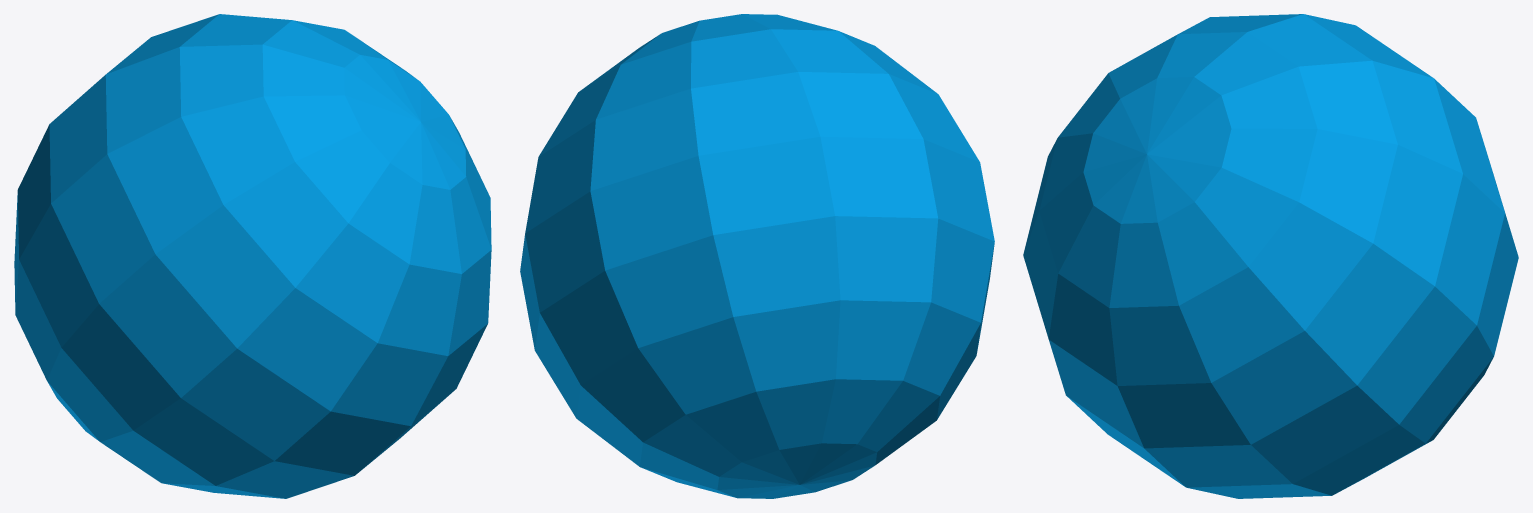
The model's file is astronaut_spawn_group1167954657_lev4.glb.
The picture shows the model from 3 angles, left to right: view 1: azimuth 30°, elevation 25°; view 2: azimuth 150°, elevation 25°; view 3: azimuth 270°, elevation 25°; orthographic projection.
Visible parts, largest first — view 1: astronaut_spawn_group1167954657_lev4; view 2: astronaut_spawn_group1167954657_lev4; view 3: astronaut_spawn_group1167954657_lev4.
Boxes of the visible parts, x1,y1,x2,y2 form: astronaut_spawn_group1167954657_lev4: [14, 14, 491, 498]; astronaut_spawn_group1167954657_lev4: [520, 14, 994, 498]; astronaut_spawn_group1167954657_lev4: [1023, 14, 1518, 498].
Size of the model in its own units: 0.1356 by 0.1374 by 0.138.
